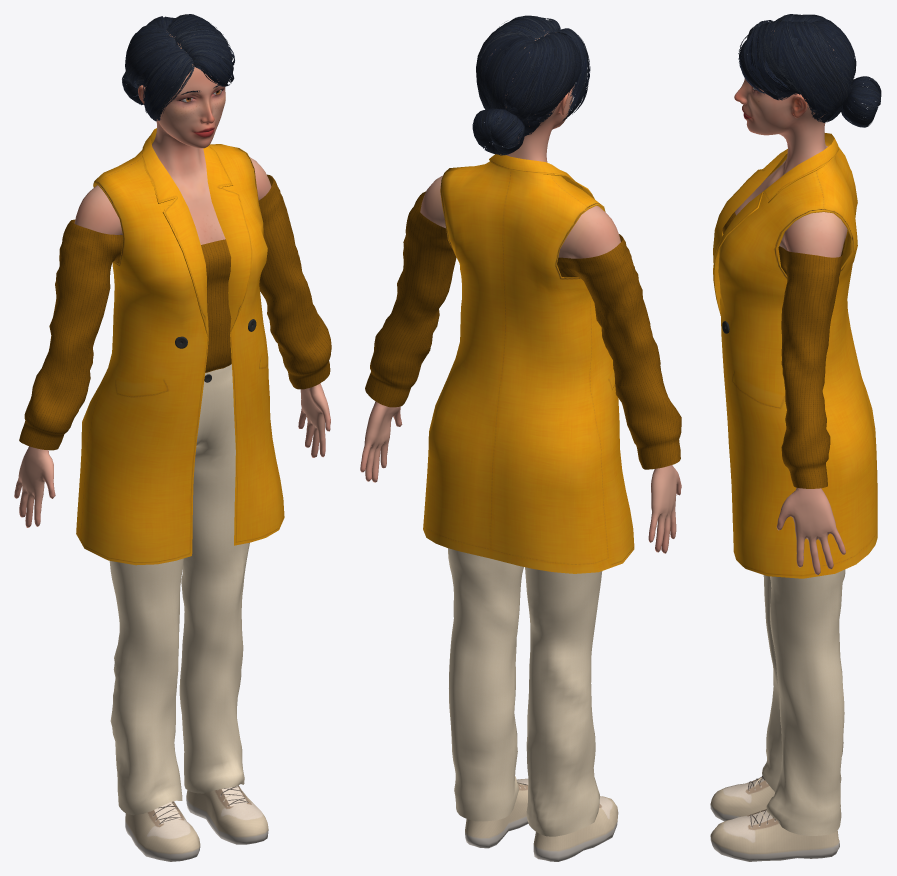
Rendered from Tessa.obj.
3 views of the same model, side by side, from view 1: azimuth 30°, elevation 25°; view 2: azimuth 150°, elevation 25°; view 3: azimuth 270°, elevation 25° (orthographic).
Parts seen in each view (by area): view 1: Tessa(FV)_TESSA, Sleeveless_jacket(FV)_RetopoFlow.029, haircut(FV)(FV)_HAIRCUT_GR, sneakers(FV)_SNEAKER.001; view 2: Sleeveless_jacket(FV)_RetopoFlow.029, Tessa(FV)_TESSA, haircut(FV)(FV)_HAIRCUT_GR, sneakers(FV)_SNEAKER.001; view 3: Sleeveless_jacket(FV)_RetopoFlow.029, Tessa(FV)_TESSA, haircut(FV)(FV)_HAIRCUT_GR, sneakers(FV)_SNEAKER.001.
Part boxes in pixels (box(x1,y1,x2,y2)): Tessa(FV)_TESSA: box(14, 34, 331, 815); Sleeveless_jacket(FV)_RetopoFlow.029: box(76, 128, 284, 565); haircut(FV)(FV)_HAIRCUT_GR: box(122, 14, 234, 121); sneakers(FV)_SNEAKER.001: box(125, 785, 268, 861); Sleeveless_jacket(FV)_RetopoFlow.029: box(423, 154, 634, 573); Tessa(FV)_TESSA: box(360, 30, 681, 836); haircut(FV)(FV)_HAIRCUT_GR: box(472, 15, 590, 155); sneakers(FV)_SNEAKER.001: box(465, 778, 618, 861); Sleeveless_jacket(FV)_RetopoFlow.029: box(713, 133, 877, 578); Tessa(FV)_TESSA: box(722, 30, 847, 835); haircut(FV)(FV)_HAIRCUT_GR: box(738, 14, 881, 127); sneakers(FV)_SNEAKER.001: box(710, 776, 839, 861).
Size of the model in its own units: 0.7052 by 1.77 by 0.3375.
